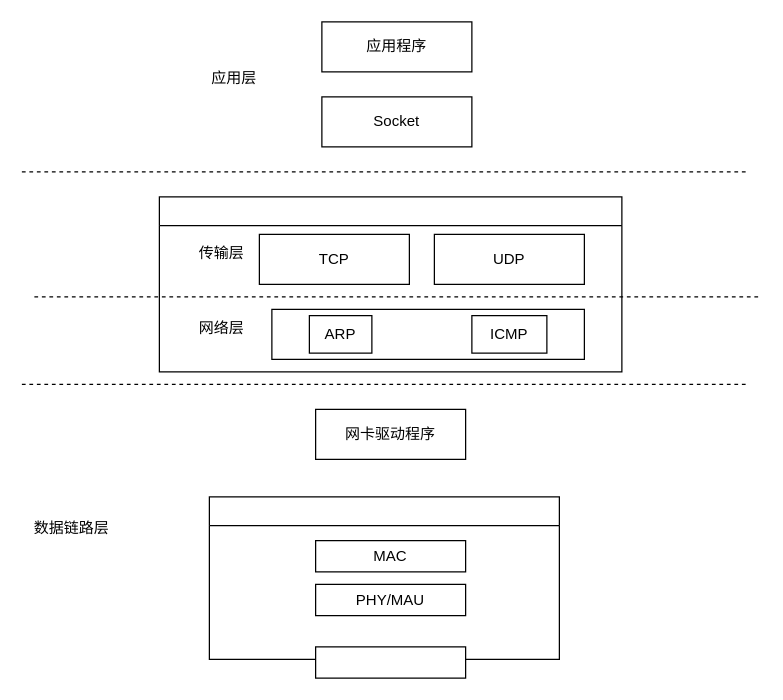
Image size: 783x700. Some labels were removed from this diagram. Each missing label, with the box of its shape:
IP: (271, 308, 584, 359)
协议栈: (158, 196, 622, 372)
网卡: (208, 496, 559, 659)
网线接口: (314, 646, 466, 678)
